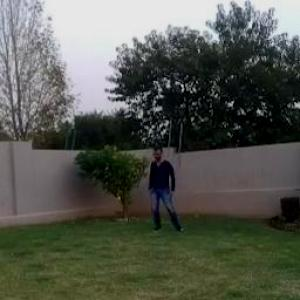follow: (148, 142, 178, 237)
